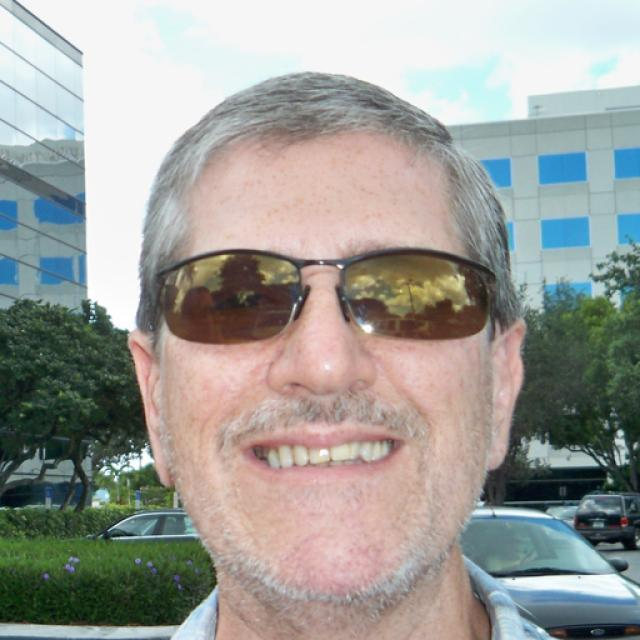happy: (160, 153, 496, 608)
